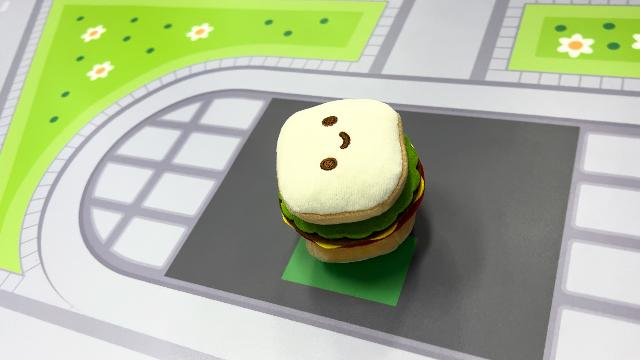sandwich: (273, 96, 427, 264)
